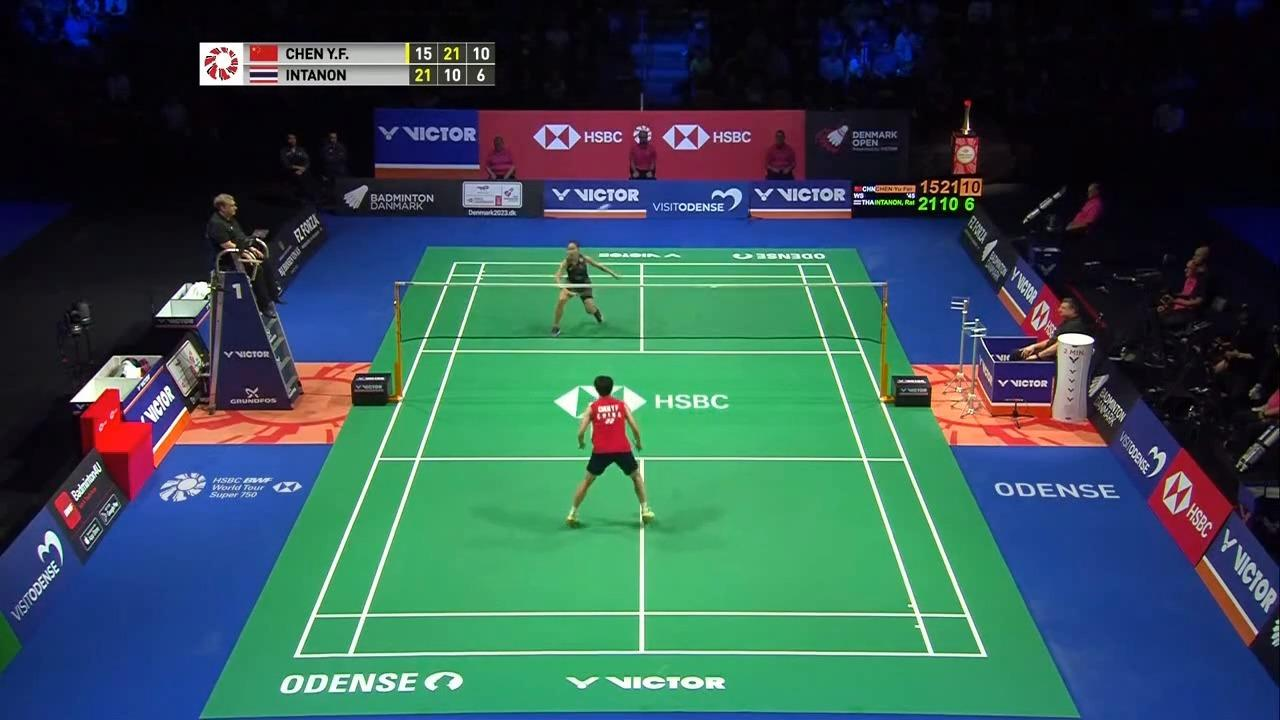shuttle: (594, 202, 611, 212)
